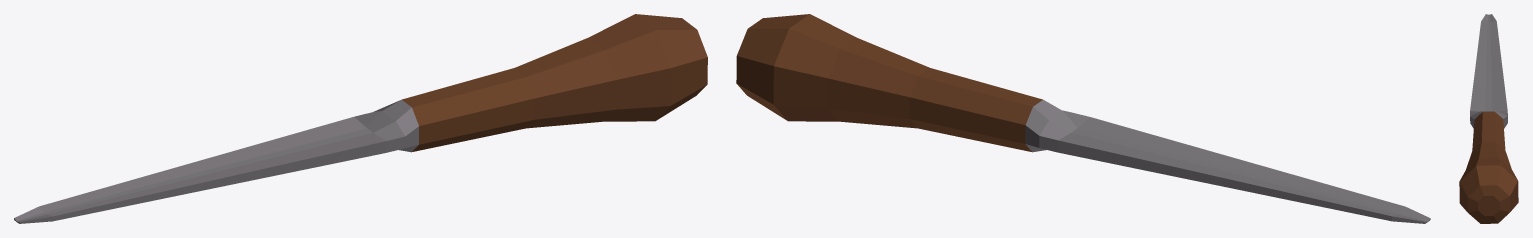
Rendered from letteropener01.obj.
3 renders of one model, left to right at view 1: azimuth 30°, elevation 25°; view 2: azimuth 150°, elevation 25°; view 3: azimuth 270°, elevation 25°, orthographic. The views are drawn at different scales.
Parts seen in each view (by area): view 1: Cylinder; view 2: Cylinder; view 3: Cylinder.
Part boxes in pixels (box(x1,y1,x2,y2)): Cylinder: box(14, 14, 707, 223); Cylinder: box(736, 14, 1430, 223); Cylinder: box(1459, 14, 1518, 223).
Size of the model in its own units: 0.2039 by 0.0267 by 0.0267.
